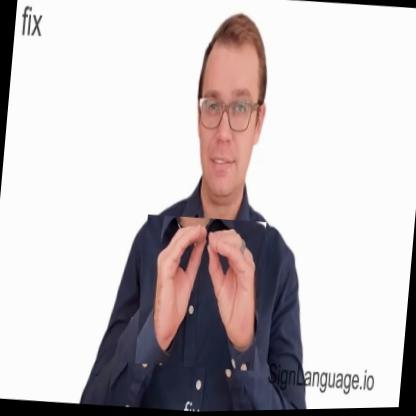Fix: (134, 213, 266, 374)
